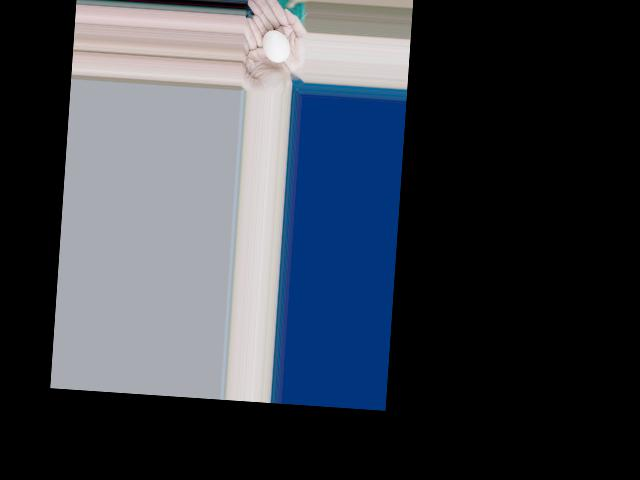egg: (261, 29, 290, 62)
